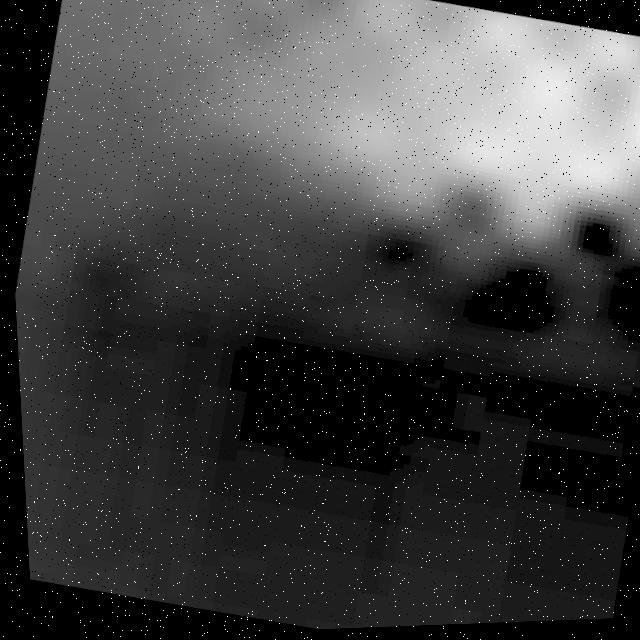person: (158, 1, 640, 300)
